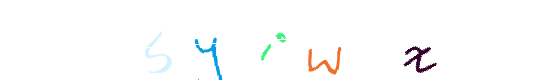5: (171, 0, 251, 80)
I: (236, 0, 316, 80)
W: (295, 0, 375, 80)
Y: (233, 0, 313, 80)
Z: (378, 0, 458, 80)
